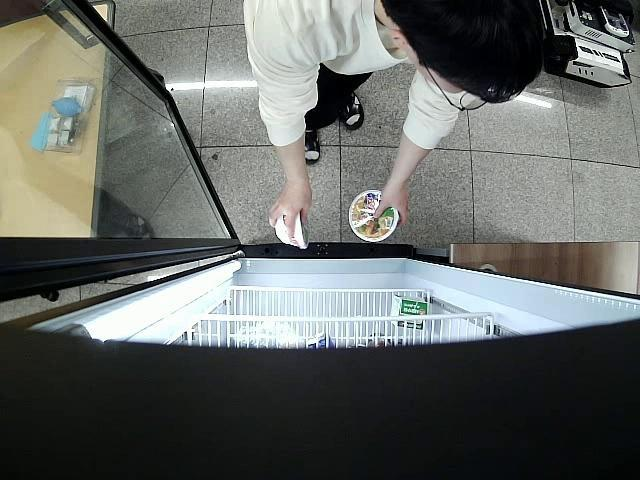09_yukGaeJang: (349, 190, 400, 242), (274, 206, 312, 252)
